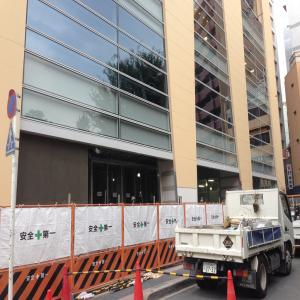Vehicle-registration-plate: (204, 262, 219, 275)
